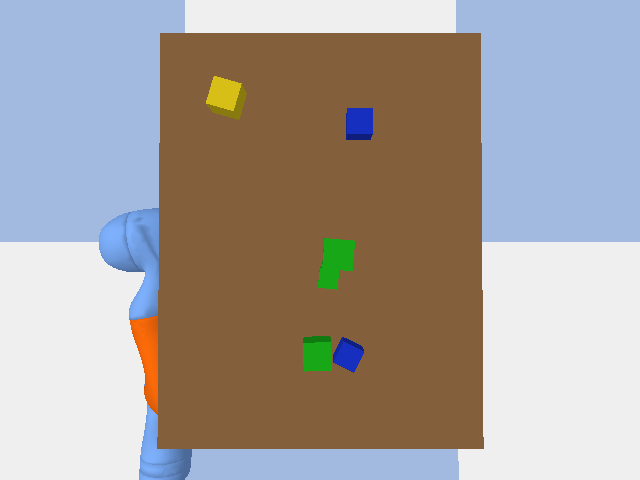blue_obj: (333, 337, 363, 372), (346, 108, 372, 139)
green_obj: (322, 238, 354, 270), (303, 336, 331, 371), (318, 267, 338, 289)
yellow_obj: (206, 76, 246, 119)
